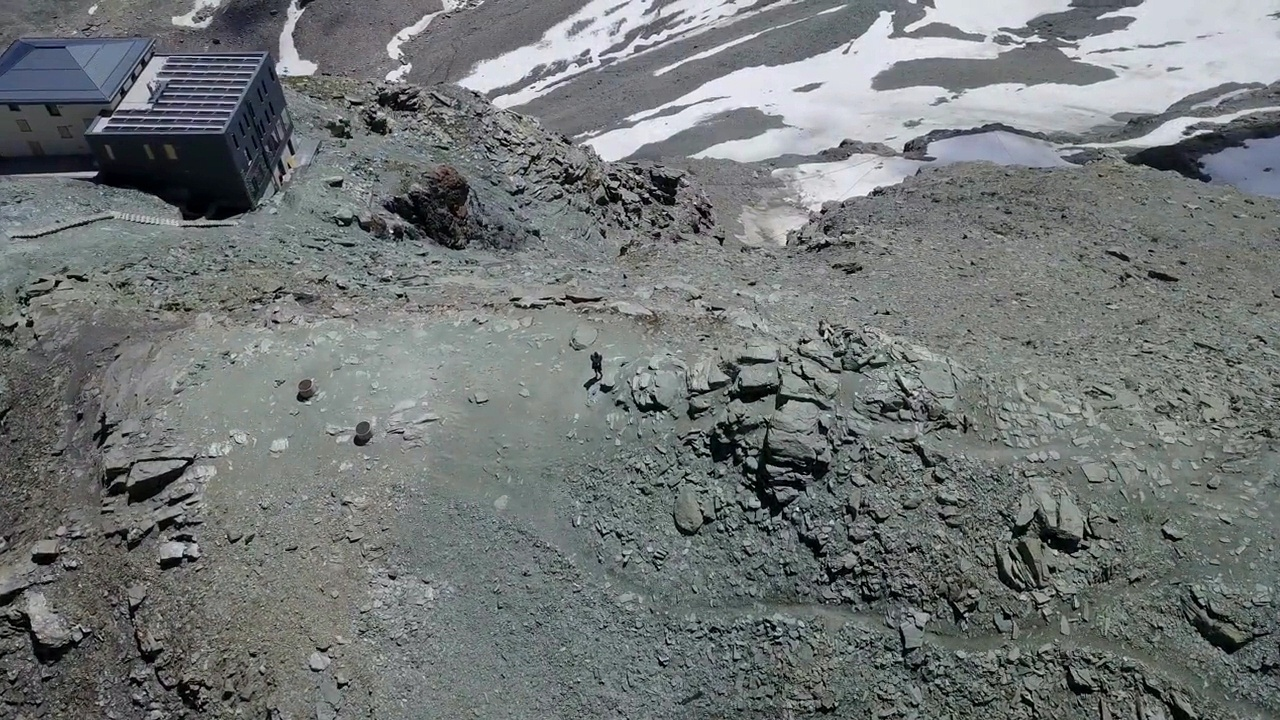insan: (586, 350, 610, 382)
